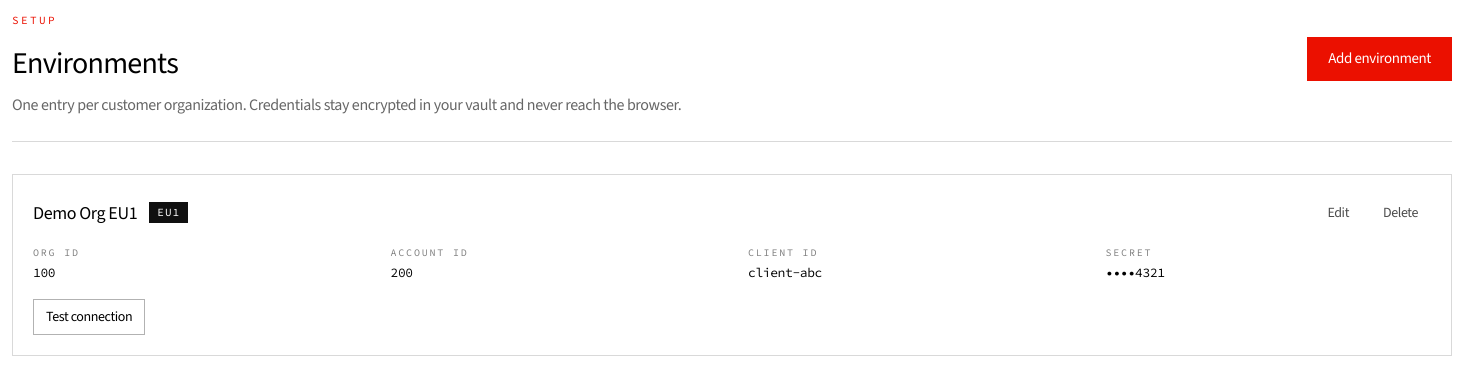
EnvironmentsPage › runs a connection test and shows the result
Click the button "Test connection".
click(89, 316)  # box [33,298,145,334]
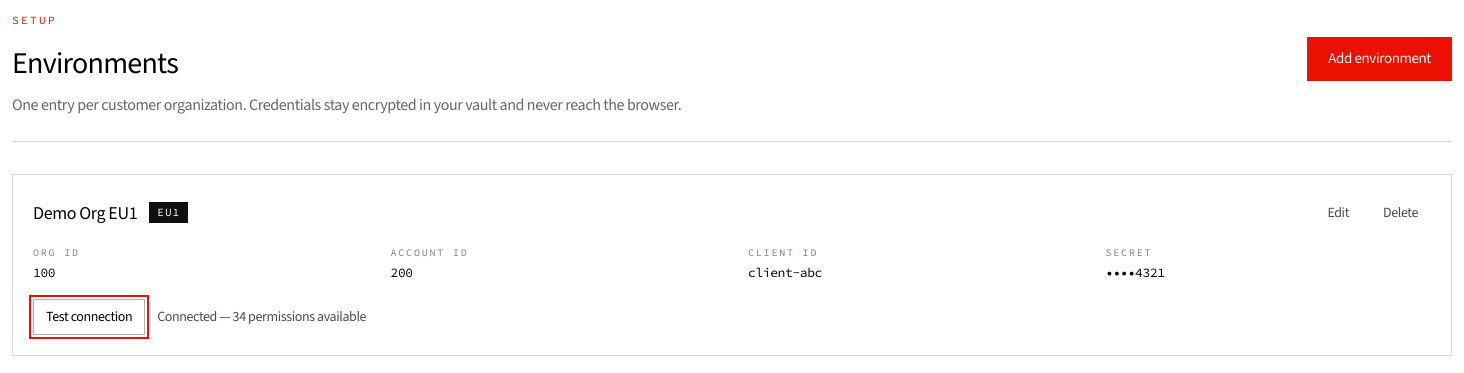
Now the text "Connected — 34 permissions available" is shown, box [157,306,366,326]
